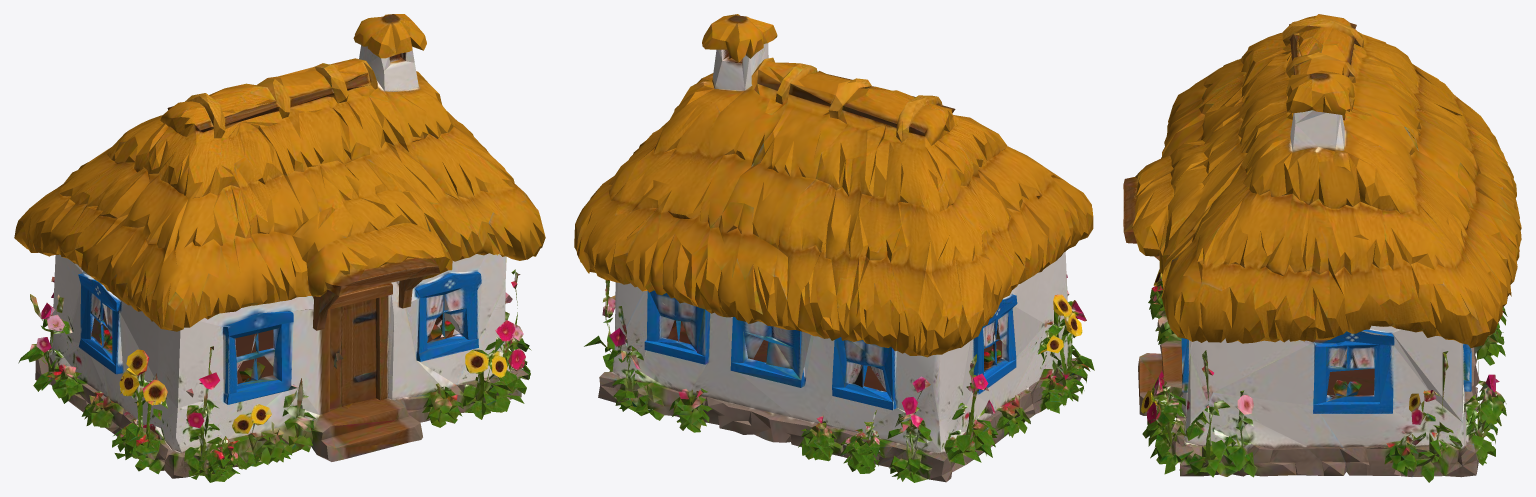
File: hata.glb
3 renders of one model, left to right at view 1: azimuth 30°, elevation 25°; view 2: azimuth 150°, elevation 25°; view 3: azimuth 270°, elevation 25°, orthographic. The views are drawn at different scales.
Visible parts, largest first — view 1: output_unwrapped; view 2: output_unwrapped; view 3: output_unwrapped.
Part boxes in pixels (x1,y1,x2,y2): output_unwrapped: (14, 14, 545, 482); output_unwrapped: (574, 14, 1094, 482); output_unwrapped: (1123, 14, 1521, 482).
Size of the model in its own units: 1.9 by 1.54 by 1.5.
Materials: 1 (1 with a texture image).
